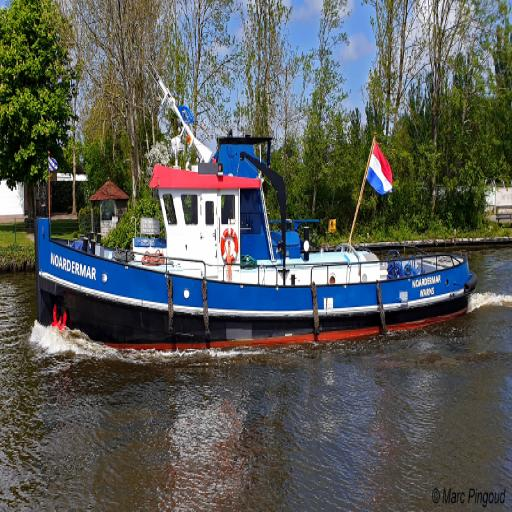tugboat: (33, 133, 484, 364)
